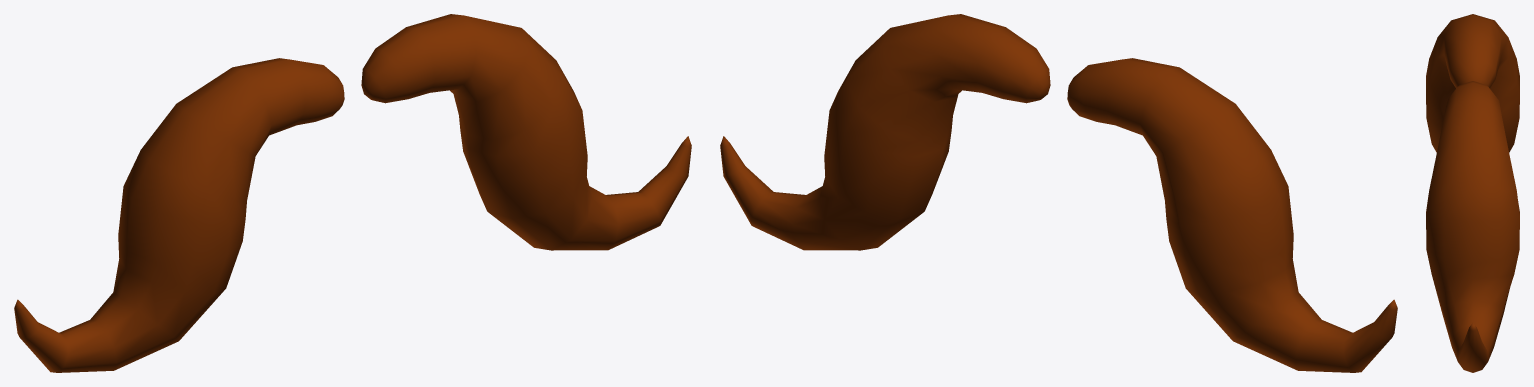
File: Beard_06_02.fbx
3 views of the same model, side by side, from view 1: azimuth 30°, elevation 25°; view 2: azimuth 150°, elevation 25°; view 3: azimuth 270°, elevation 25° (orthographic). The views are drawn at different scales.
Parts seen in each view (by area): view 1: Beard_06_02; view 2: Beard_06_02; view 3: Beard_06_02.
Boxes of the visible parts, x1=… form: Beard_06_02: x1=14, y1=14, x2=691, y2=372; Beard_06_02: x1=720, y1=14, x2=1397, y2=372; Beard_06_02: x1=1426, y1=14, x2=1519, y2=372.
Bounding box in the file's own units: 27.87 × 10.5 × 4.29.
